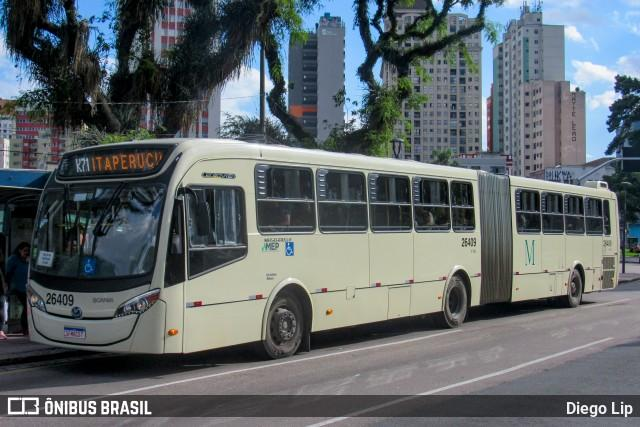ITAPERUCU: (88, 149, 166, 175)
